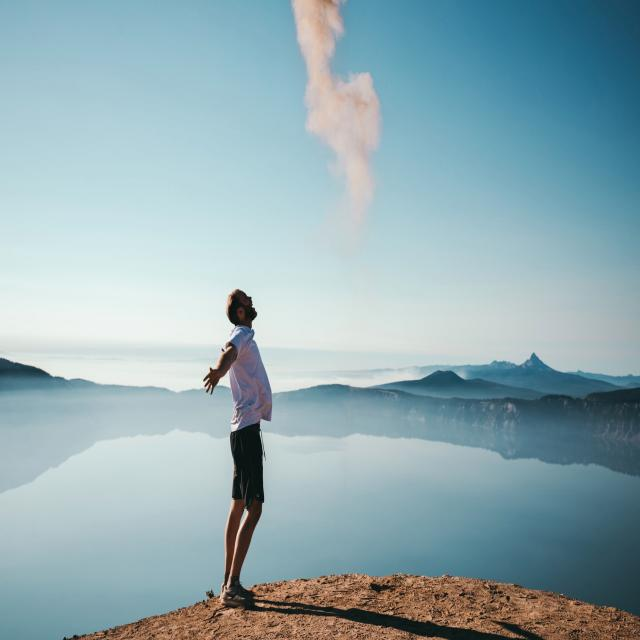adult: (203, 268, 278, 616)
